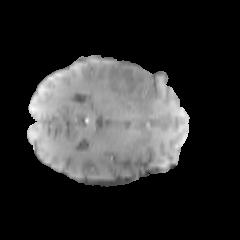glioma: (46, 59, 156, 105)
